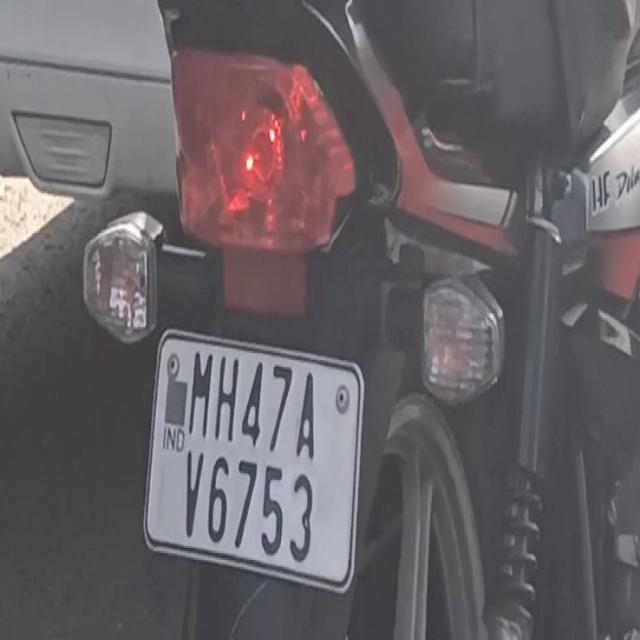license_plate: (141, 311, 366, 601)
